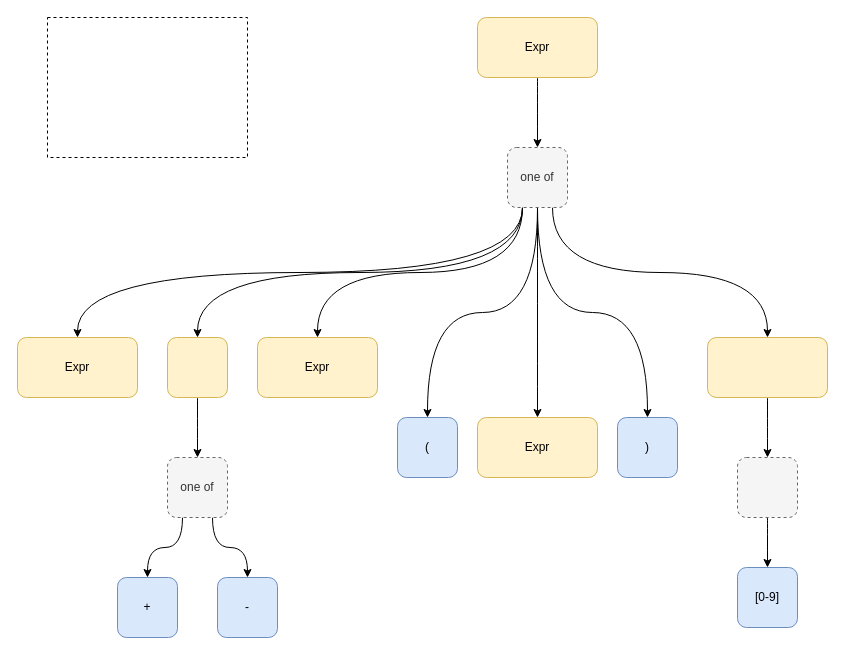
The diagram is 845 pixels wide and 655 high, and some of its shapes have lost their labels. The centre of each missing label's shape, as x and y in pixels:
Expr = | Expr op Expr | "(" Expr ")" | primary primary = digit+ op = "+" | "-": (147,87)
one or more: (767,487)
op: (197,367)
primary: (767,367)
